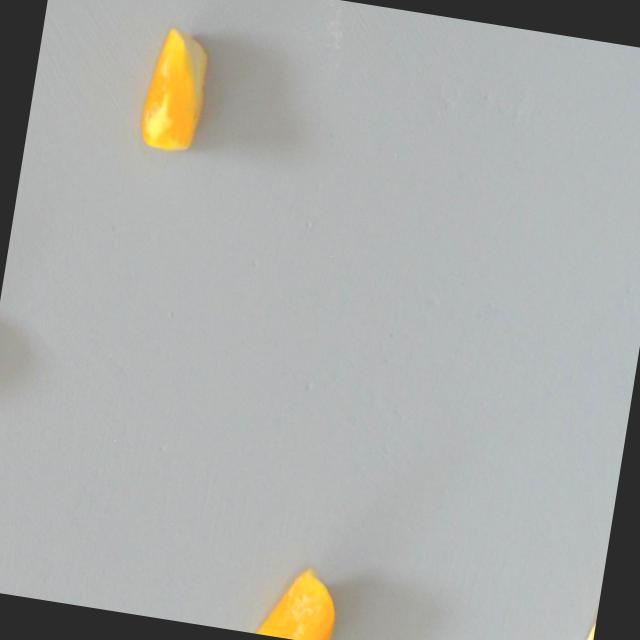pelicula: (127, 18, 217, 160), (253, 559, 345, 640), (579, 589, 601, 640)
